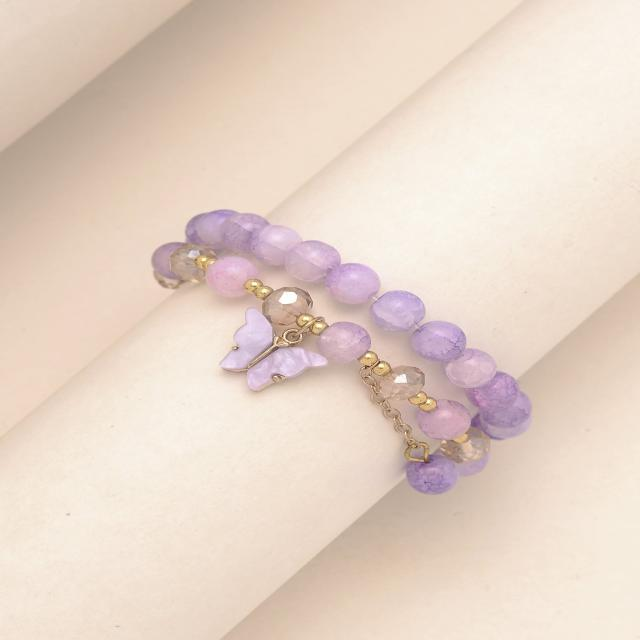bracelet: (92, 154, 640, 579)
